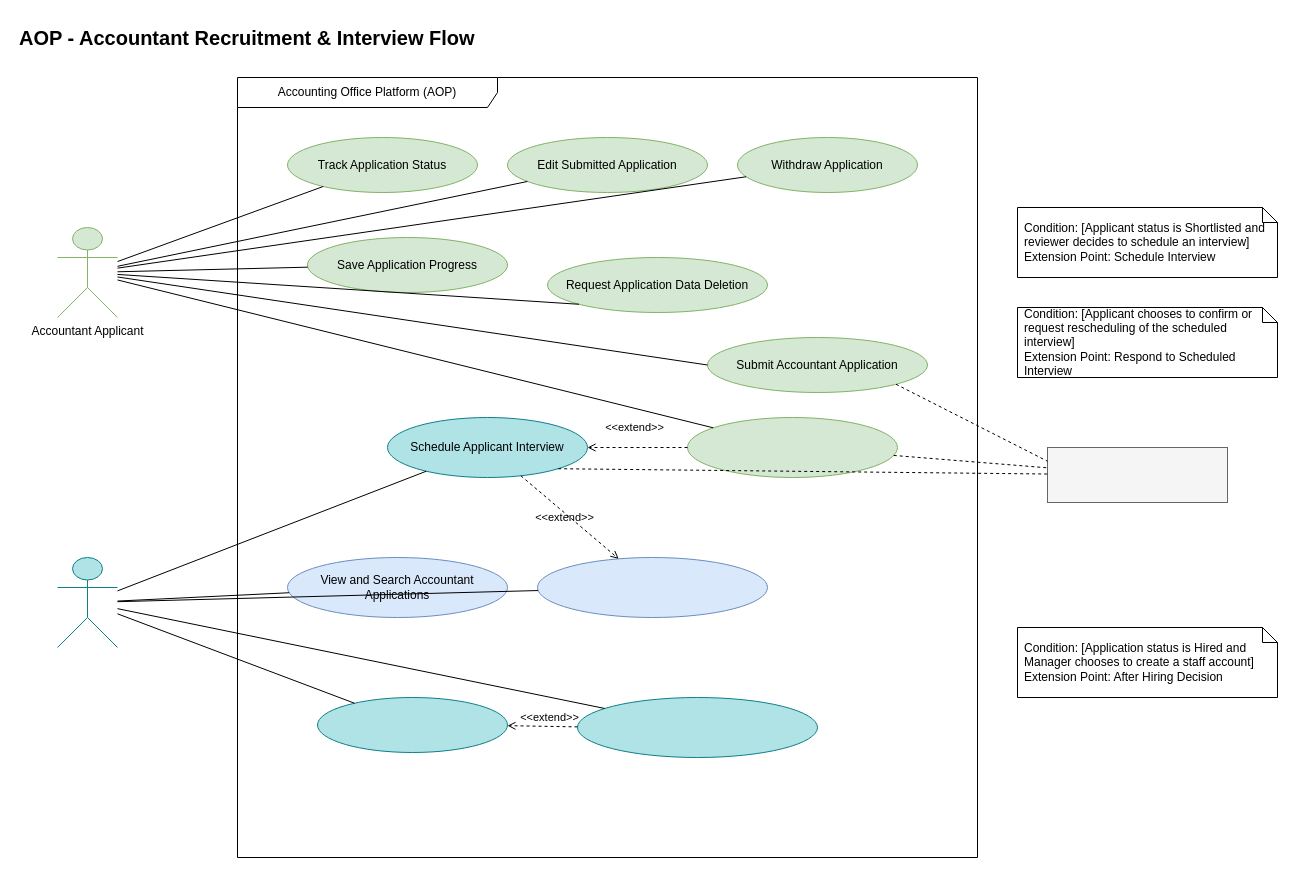
The diagram is 1295 pixels wide and 875 high, and some of its shapes have lost their labels. The centre of each missing label's shape, as x and y in pixels:
"<<actor>> Email Provider" goes at point 1137,474.
"Create Staff Account from Hired Applicant" goes at point 697,727.
"Make Hiring Decision" goes at point 412,724.
"Manager" goes at point 87,602.
"Respond to Interview Invitation" goes at point 792,447.
"Review and Process Accountant Application" goes at point 652,587.
